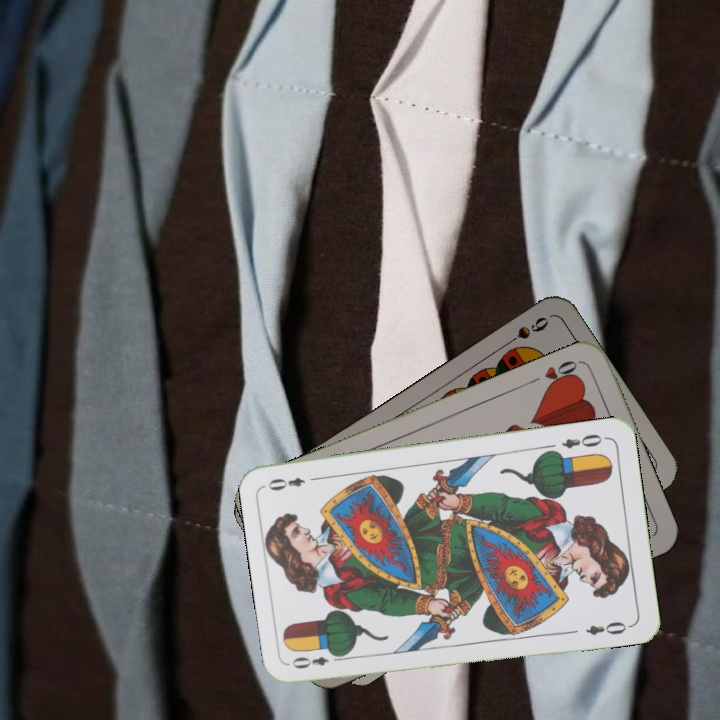EO: (288, 649, 346, 672), (557, 429, 605, 451)
HO: (526, 356, 582, 391)
S9: (498, 312, 552, 350)
